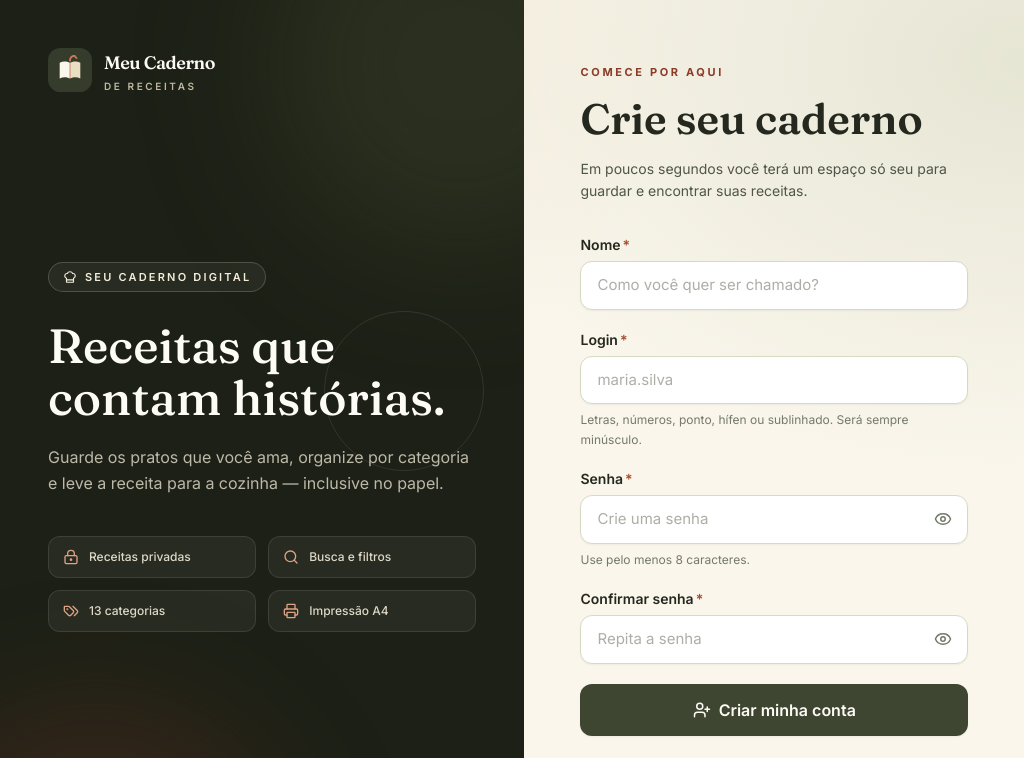
Test: RegisterPage › shows a duplicate-login error while preserving entered data
In the field labelled "Nome": (774, 285) [580, 261, 968, 310], type "Maria Silva"
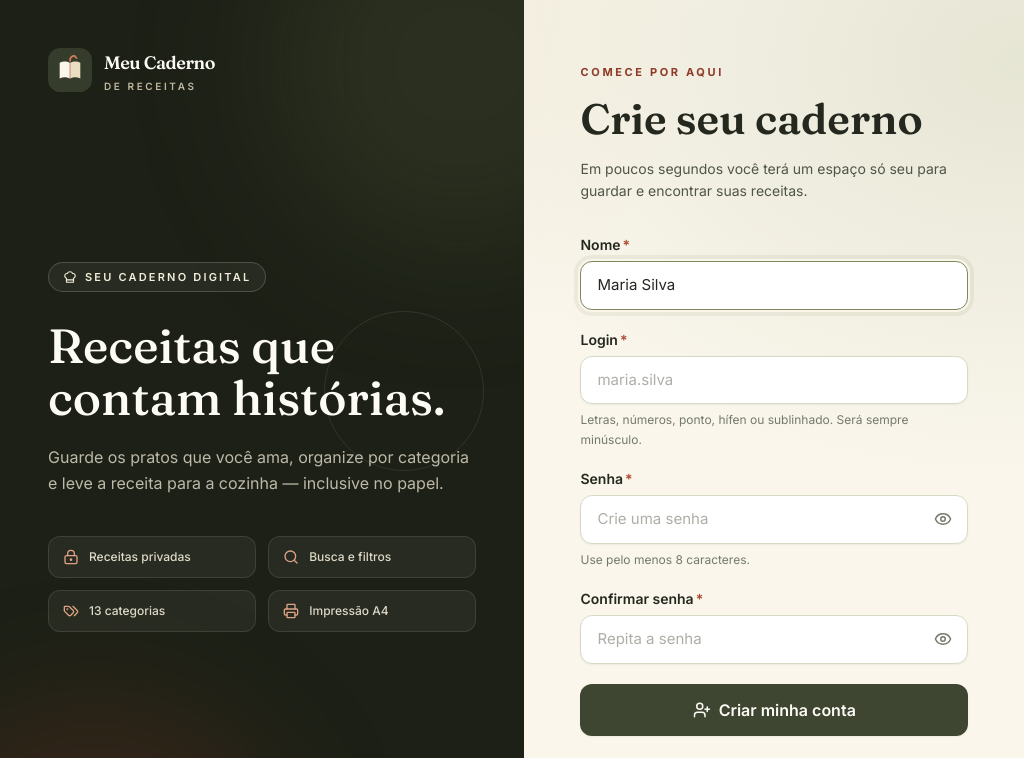
In the field labelled "Login": (774, 380) [580, 356, 968, 404], type "maria"
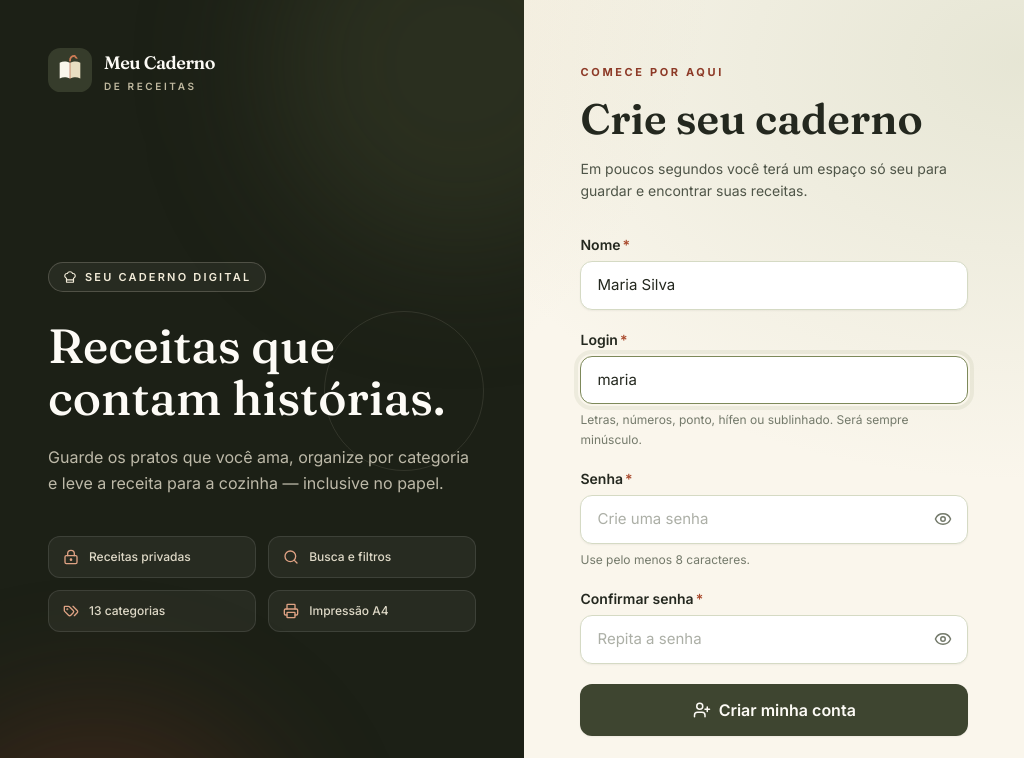
In the password field labelled "Senha": (774, 519) [580, 495, 968, 544], type "Senha@123"
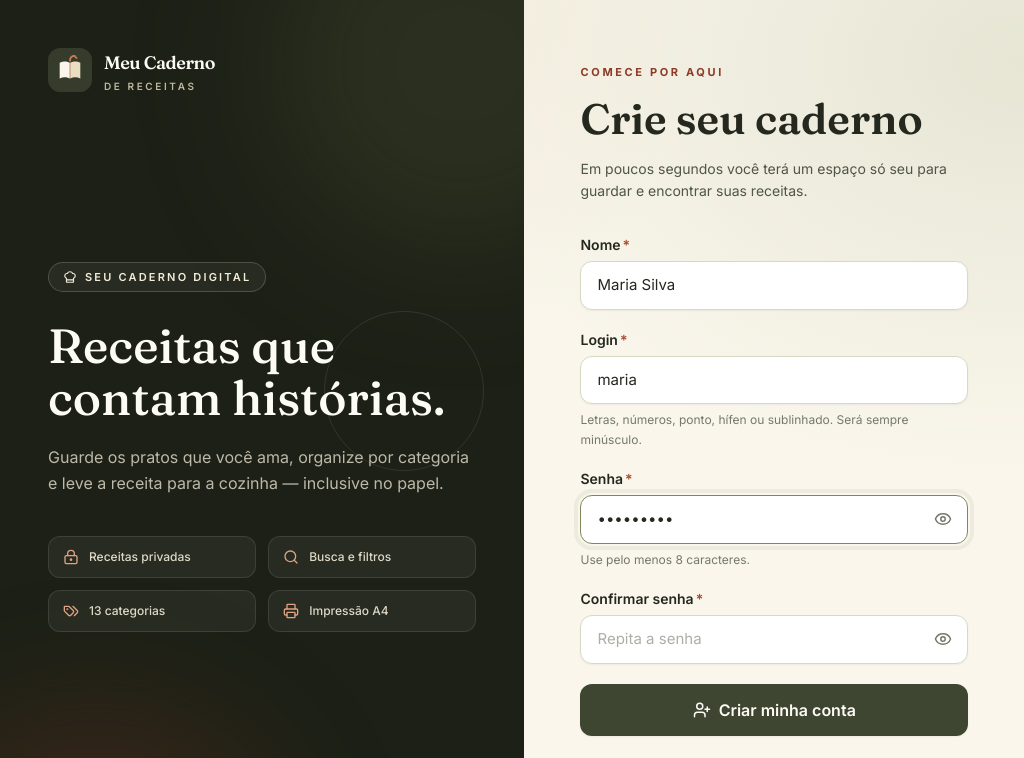
In the password field labelled "Confirmar senha": (774, 639) [580, 615, 968, 664], type "Senha@123"
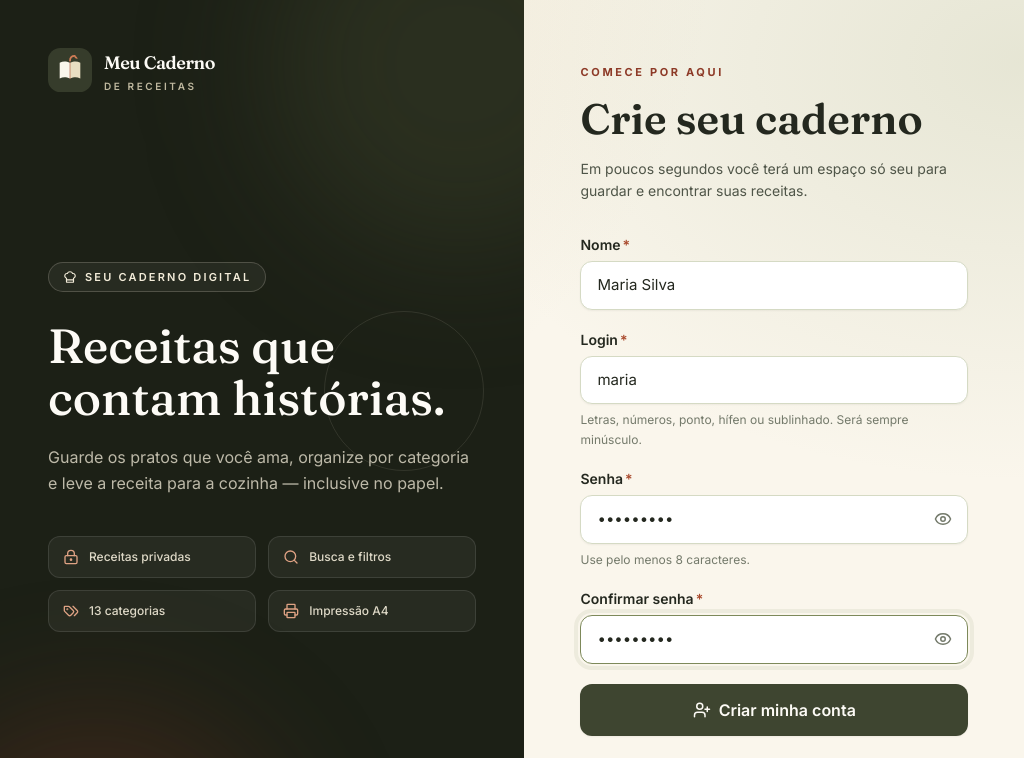
Click the button "Criar minha conta": (774, 710) [580, 684, 968, 736]
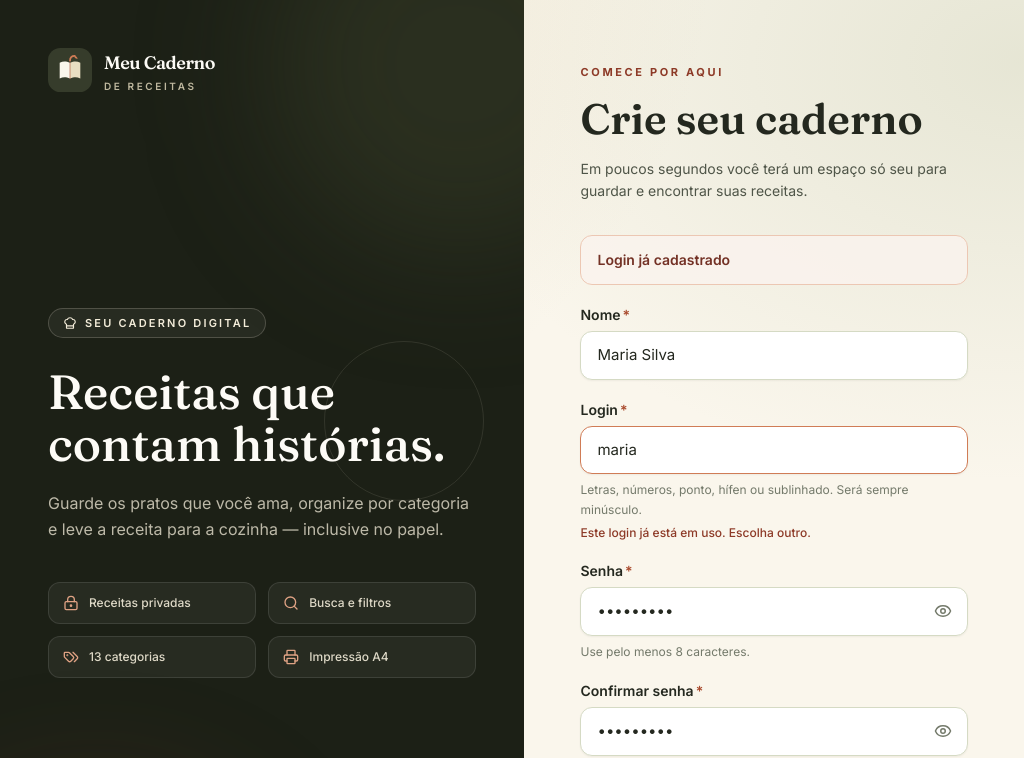
Now the text "Este login já está em uso. Escolha outro." is shown, box [580, 525, 811, 540]
